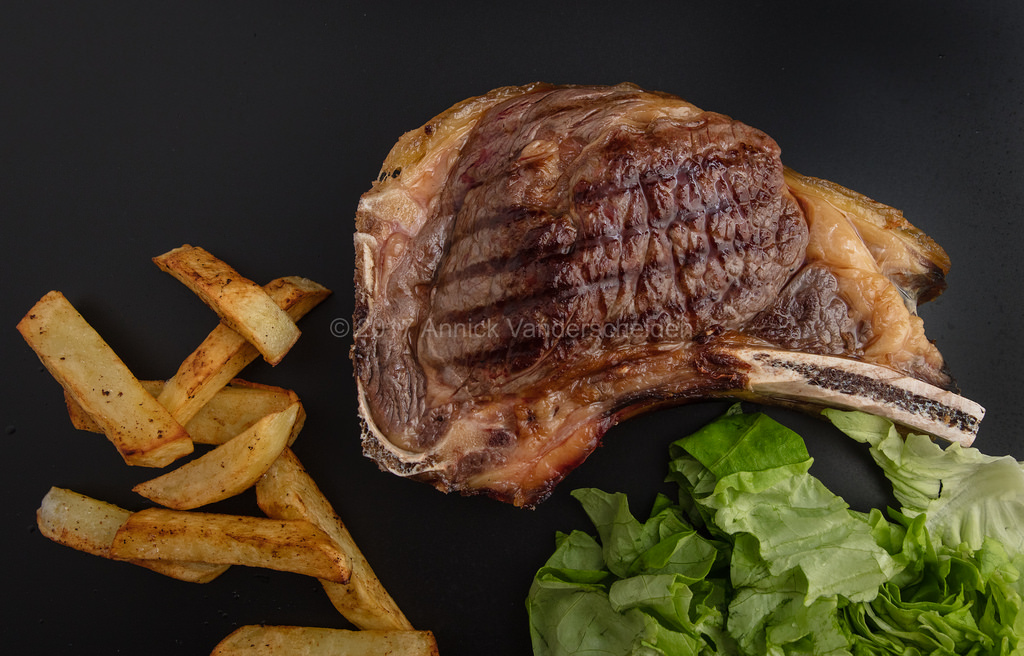chopped lettuce: (553, 429, 1019, 656)
